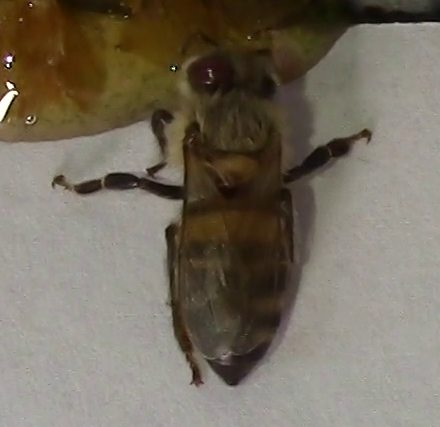Varroa destructor: (183, 50, 240, 93)
